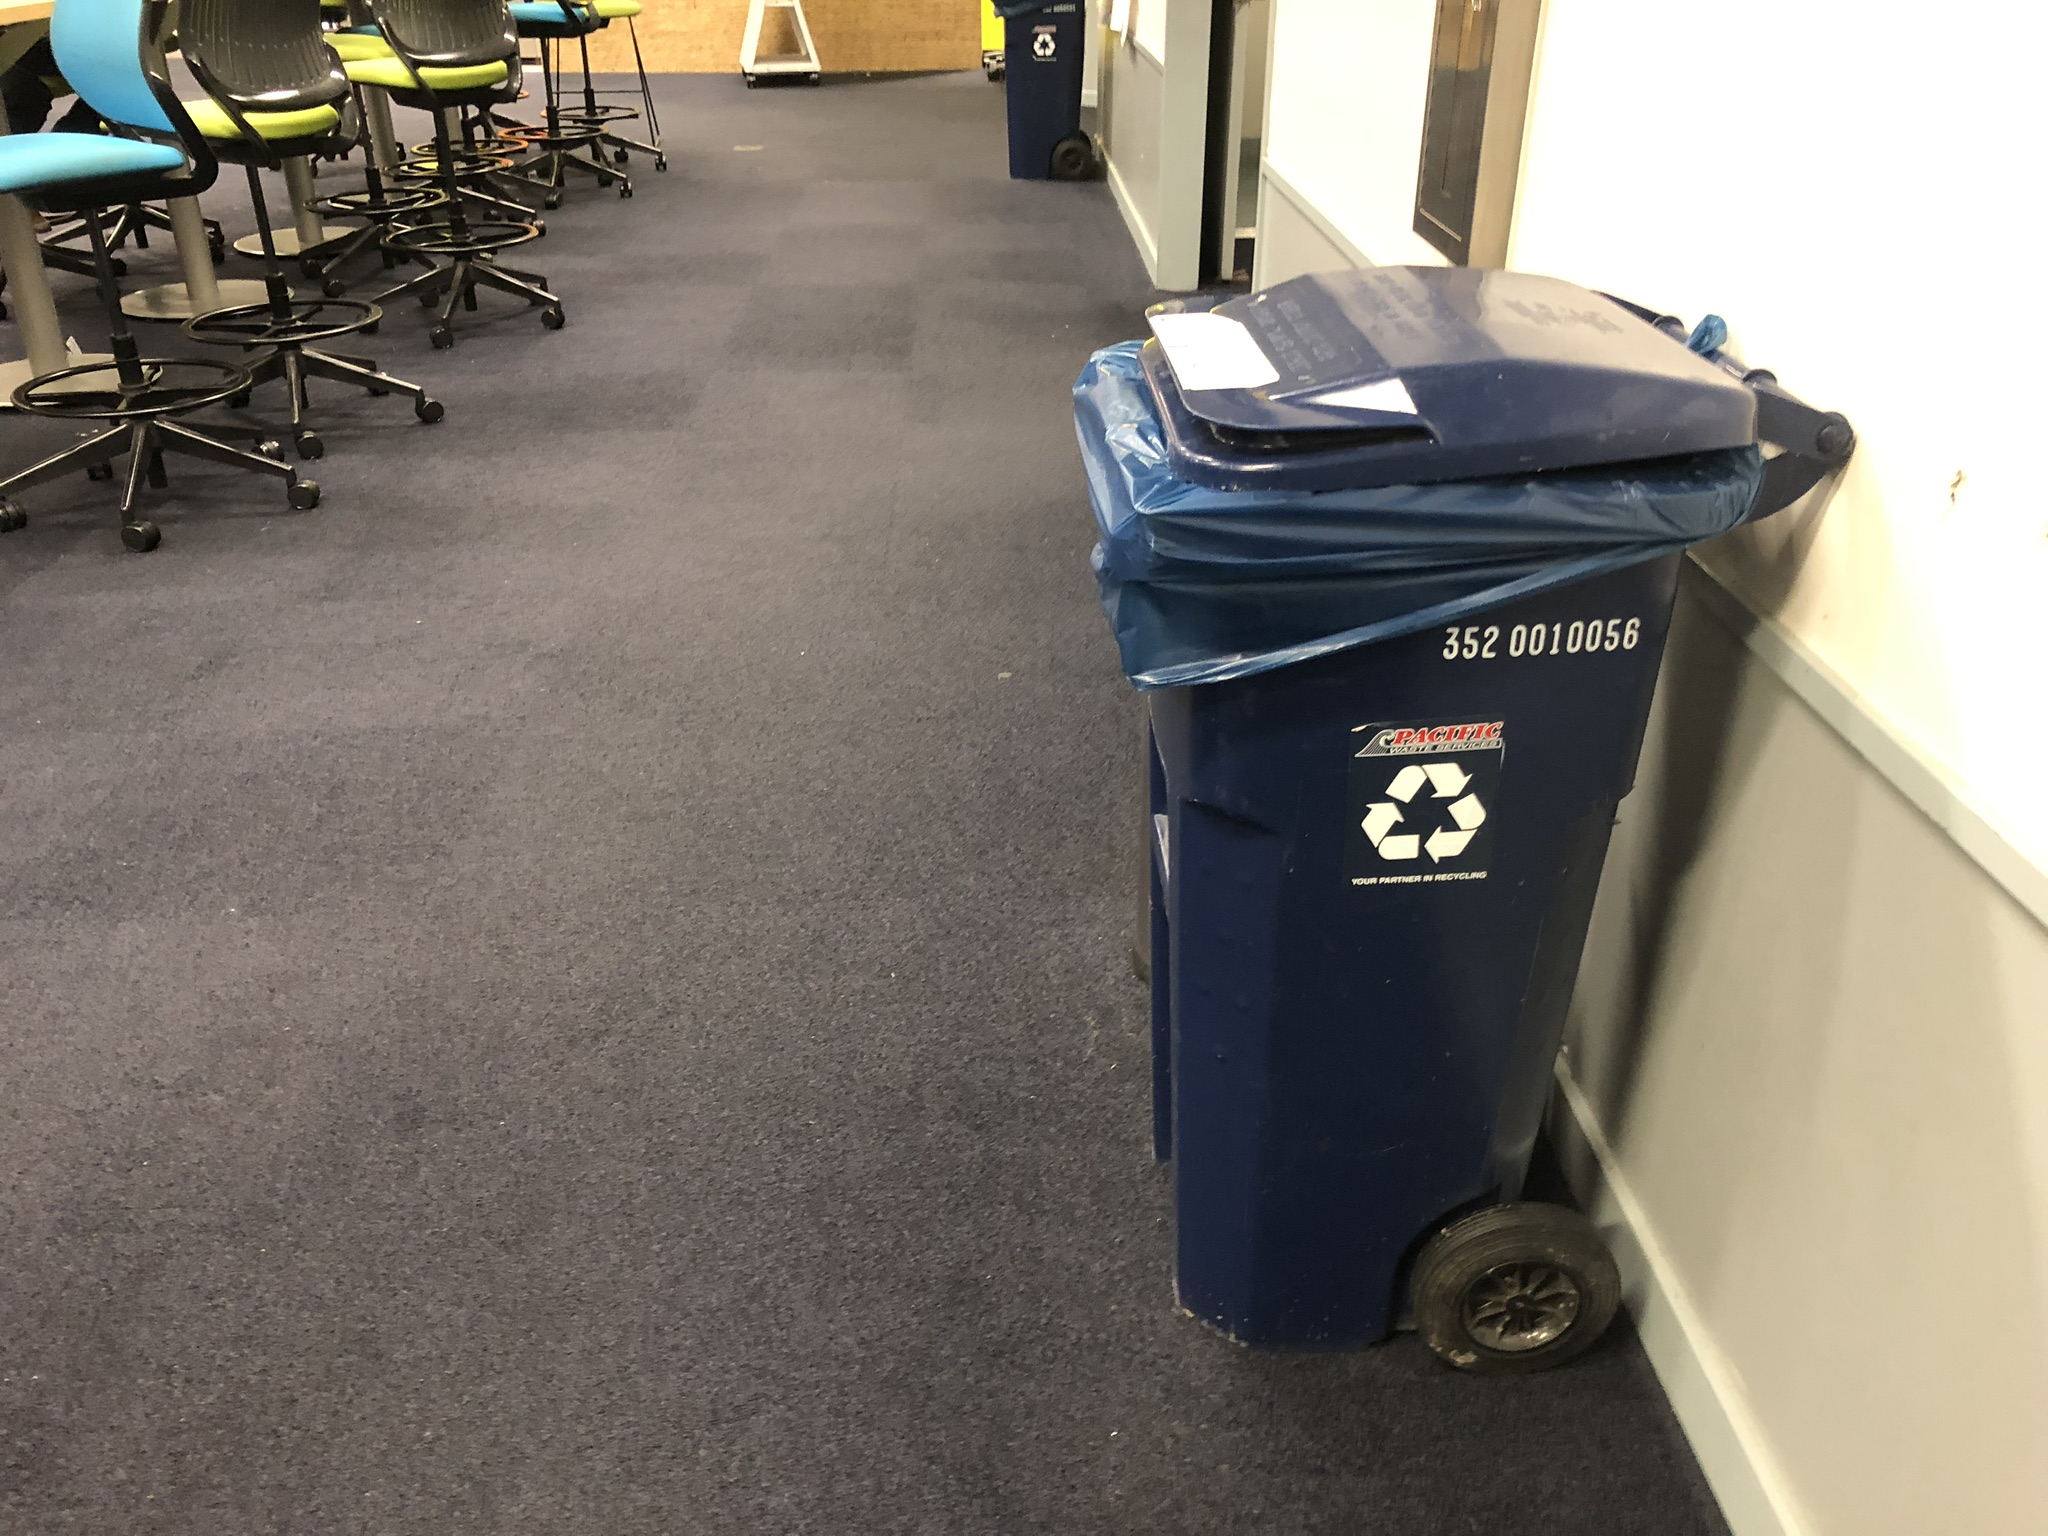Obstacle: (995, 244, 1924, 1418), (11, 2, 666, 555), (998, 3, 1238, 289)
